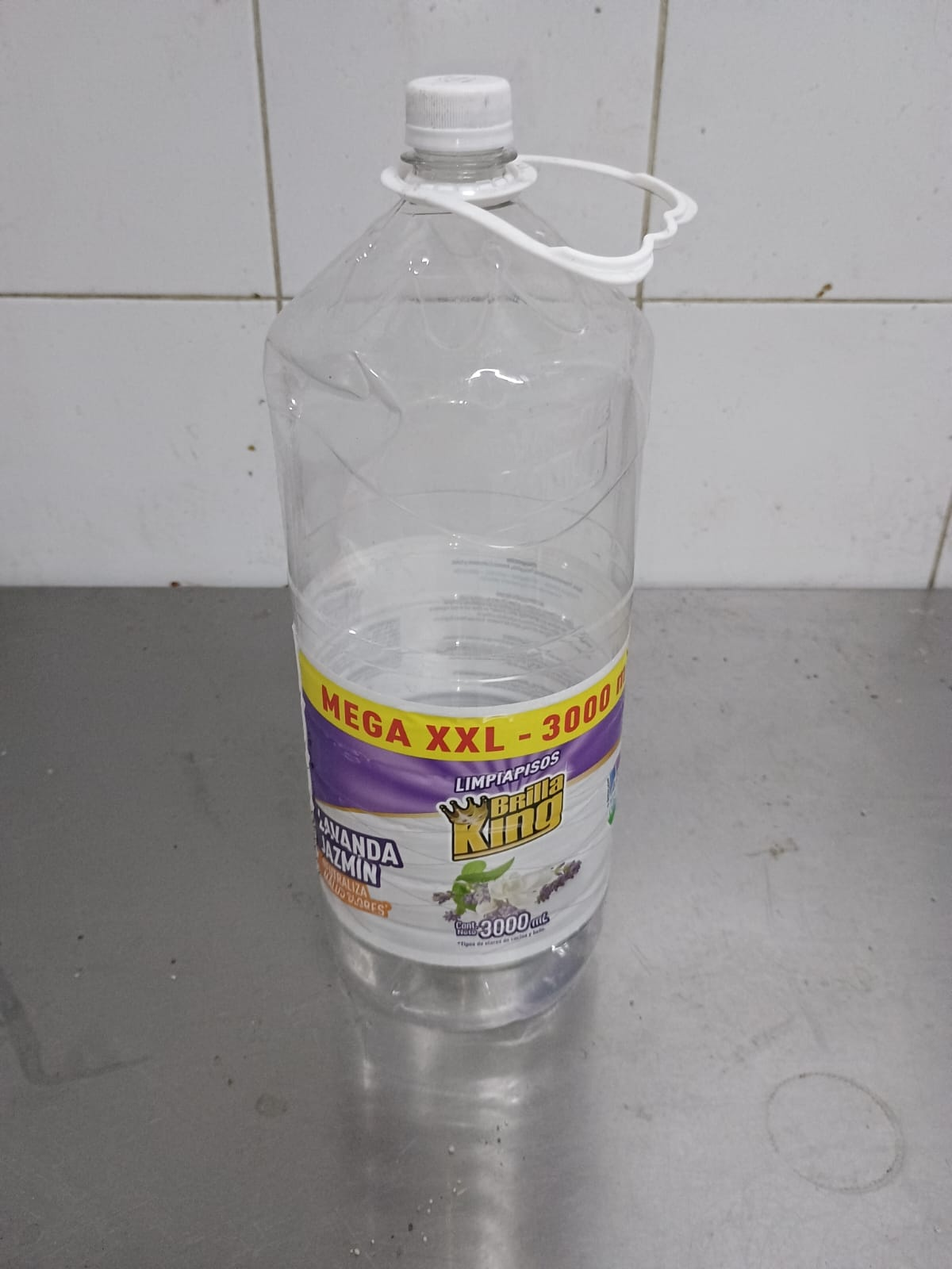Plastico: (266, 74, 657, 1039)
